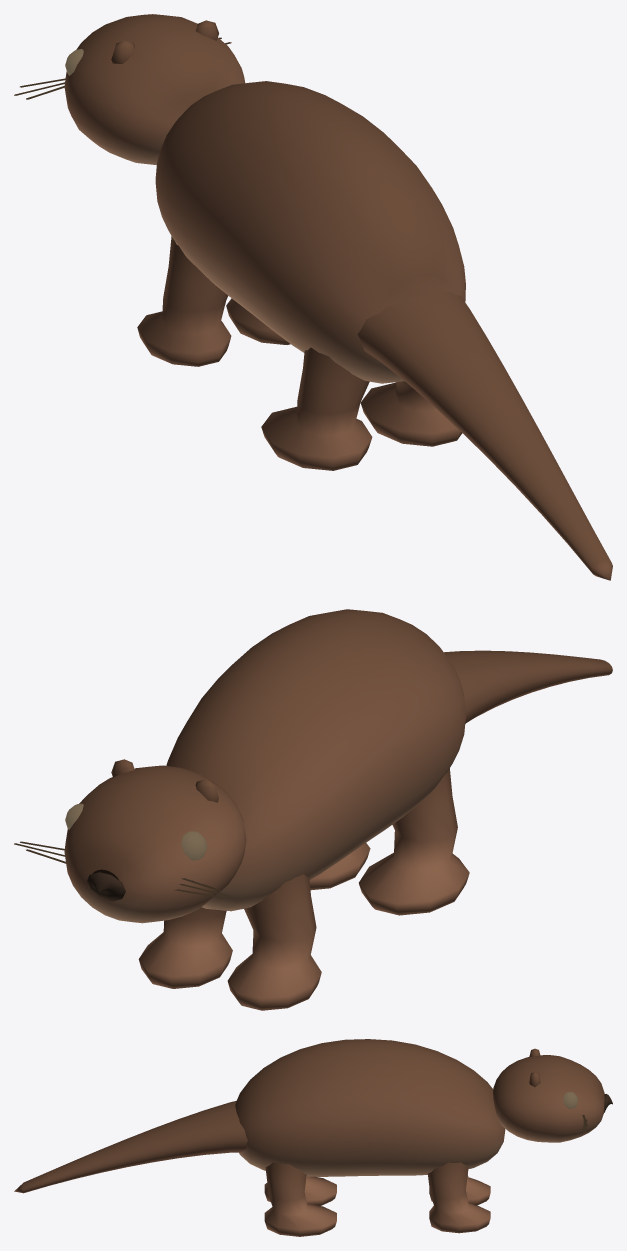
File: 36-Fauna_nutria_ribera_v2.glb
3 views of the same model, one above another, from view 1: azimuth 30°, elevation 25°; view 2: azimuth 150°, elevation 25°; view 3: azimuth 270°, elevation 25° (orthographic). The views are drawn at different scales.
Parts seen in each view (by area): view 1: SM_Nutria_Body, SM_Nutria_Tail, SM_Nutria_Head, SM_Nutria_Leg_BL, SM_Nutria_Leg_FL, SM_Nutria_Leg_BR, SM_Nutria_Leg_FR; view 2: SM_Nutria_Body, SM_Nutria_Head, SM_Nutria_Leg_BL, SM_Nutria_Leg_FL, SM_Nutria_Tail, SM_Nutria_Leg_FR, SM_Nutria_Leg_BR, SM_Nutria_Eyes; view 3: SM_Nutria_Body, SM_Nutria_Head, SM_Nutria_Tail, SM_Nutria_Leg_BR, SM_Nutria_Leg_FR, SM_Nutria_Leg_BL, SM_Nutria_Leg_FL.
Part boxes in pixels (<box>): SM_Nutria_Body: <box>155,81,465,383</box>; SM_Nutria_Tail: <box>357,291,612,580</box>; SM_Nutria_Head: <box>14,14,245,164</box>; SM_Nutria_Leg_BL: <box>261,347,372,470</box>; SM_Nutria_Leg_FL: <box>137,236,231,366</box>; SM_Nutria_Leg_BR: <box>360,381,462,446</box>; SM_Nutria_Leg_FR: <box>226,298,290,344</box>; SM_Nutria_Body: <box>166,609,465,911</box>; SM_Nutria_Head: <box>14,759,246,923</box>; SM_Nutria_Leg_BL: <box>359,768,469,915</box>; SM_Nutria_Leg_FL: <box>227,874,321,1010</box>; SM_Nutria_Tail: <box>444,650,612,723</box>; SM_Nutria_Leg_FR: <box>138,907,232,988</box>; SM_Nutria_Leg_BR: <box>309,843,370,890</box>; SM_Nutria_Eyes: <box>65,803,207,860</box>; SM_Nutria_Body: <box>235,1039,505,1176</box>; SM_Nutria_Head: <box>493,1048,612,1142</box>; SM_Nutria_Tail: <box>14,1101,247,1193</box>; SM_Nutria_Leg_BR: <box>264,1162,336,1236</box>; SM_Nutria_Leg_FR: <box>428,1162,490,1233</box>; SM_Nutria_Leg_BL: <box>264,1176,336,1205</box>; SM_Nutria_Leg_FL: <box>429,1175,490,1205</box>.
Size of the model in its own units: 0.1823 by 0.2301 by 0.7428.
